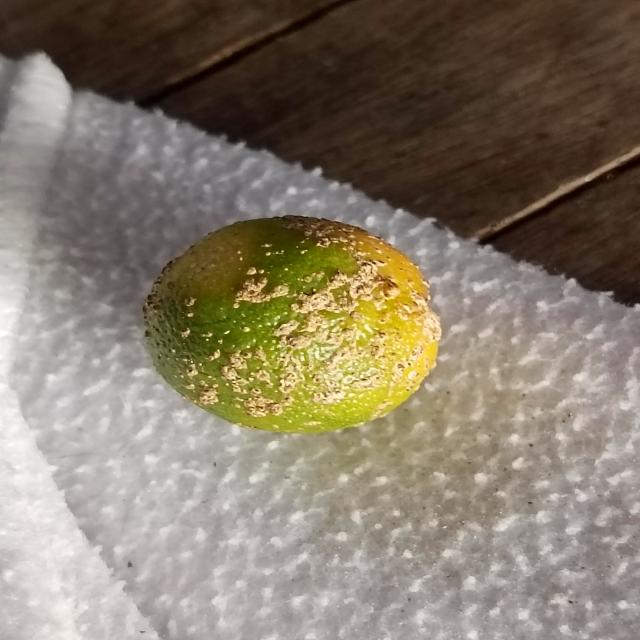scab: (144, 216, 442, 430)
